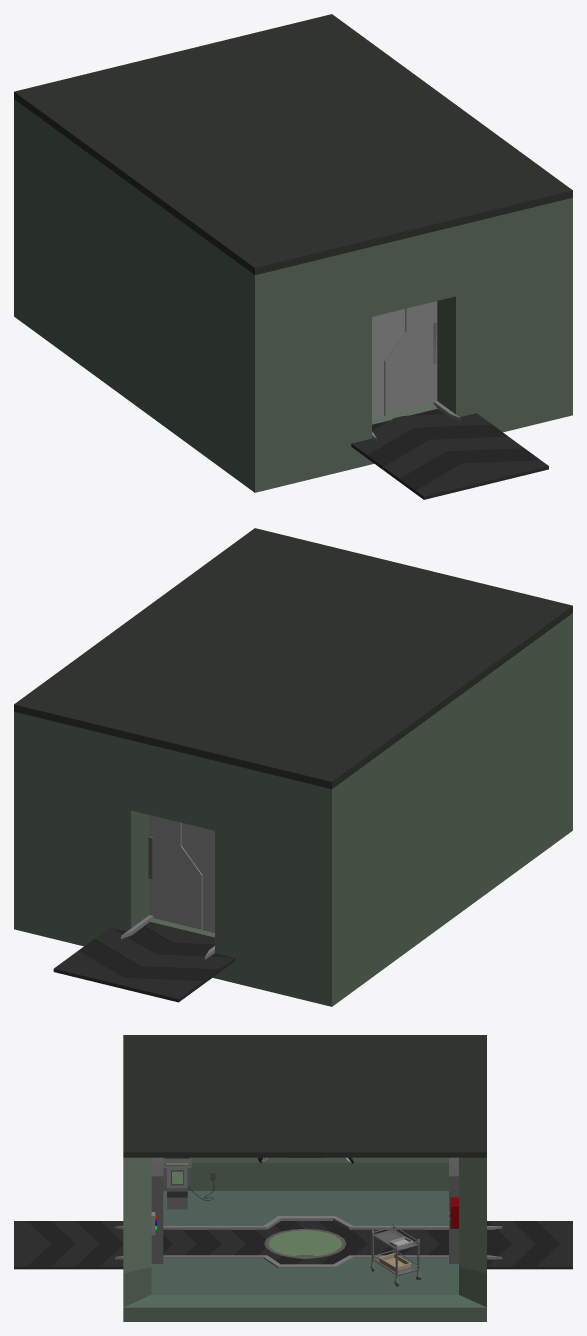
File: pls.fbx
The picture shows the model from 3 angles, top to bottom: view 1: azimuth 30°, elevation 25°; view 2: azimuth 150°, elevation 25°; view 3: azimuth 270°, elevation 25°; orthographic projection. The views are drawn at different scales.
Visible parts, largest first — view 1: stanza_3_pareti, tetto, rullo, porta1, porta2; view 2: stanza_3_pareti, tetto, rullo, porta1, porta2; view 3: stanza_3_pareti, tetto, rullo, base_rullo, infissi, pedata_360, macchina, carrello.
Boxes of the visible parts, left/top/right/bottom form: stanza_3_pareti: left=14, top=99, right=572, bottom=492; tetto: left=14, top=14, right=572, bottom=275; rullo: left=351, top=408, right=548, bottom=499; porta1: left=384, top=301, right=437, bottom=415; porta2: left=372, top=309, right=405, bottom=418; stanza_3_pareti: left=14, top=613, right=572, bottom=1006; tetto: left=14, top=528, right=572, bottom=789; rullo: left=53, top=922, right=235, bottom=1002; porta1: left=149, top=815, right=202, bottom=929; porta2: left=181, top=823, right=214, bottom=932; stanza_3_pareti: left=123, top=1157, right=486, bottom=1321; tetto: left=123, top=1035, right=486, bottom=1157; rullo: left=14, top=1221, right=572, bottom=1269; base_rullo: left=115, top=1216, right=502, bottom=1267; infissi: left=151, top=1157, right=458, bottom=1263; pedata_360: left=264, top=1228, right=346, bottom=1258; macchina: left=163, top=1157, right=191, bottom=1209; carrello: left=370, top=1223, right=421, bottom=1286.
Bounding box in the file's own units: 1155 × 781 × 2330.
